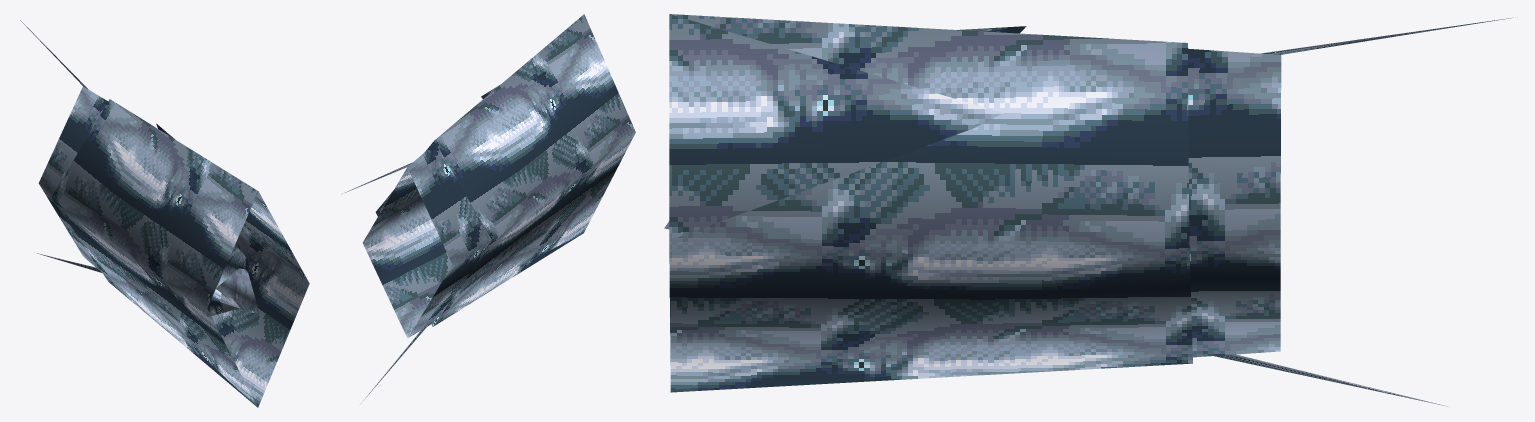
File: 2137_fish67d.gltf
3 views of the same model, side by side, from view 1: azimuth 30°, elevation 25°; view 2: azimuth 150°, elevation 25°; view 3: azimuth 270°, elevation 25° (orthographic). The views are drawn at different scales.
Parts seen in each view (by area): view 1: 2137_fish67d; view 2: 2137_fish67d; view 3: 2137_fish67d.
Part boxes in pixels (box(x1,y1,x2,y2)): 2137_fish67d: box(20, 20, 309, 407); 2137_fish67d: box(341, 14, 635, 403); 2137_fish67d: box(664, 14, 1513, 406).
Bounding box in the file's own units: 0.0767 × 0.1431 × 0.282.
1 material, 1 textured.
